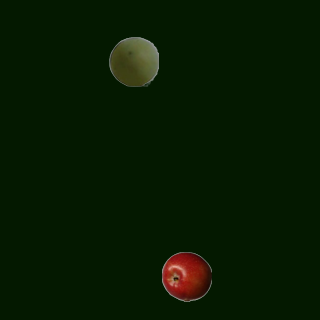Apple Braeburn: (161, 251, 211, 301)
Grape White 4: (108, 36, 158, 86)
